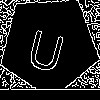U: (24, 20, 69, 74)
